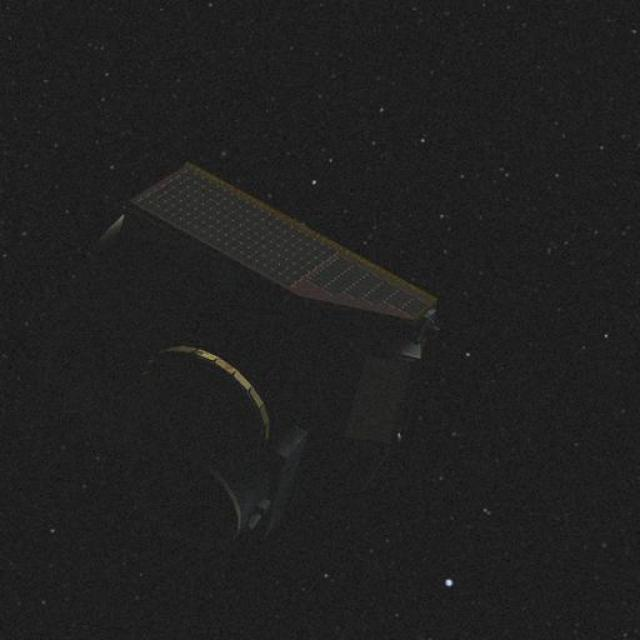cheops: (58, 163, 418, 564)
